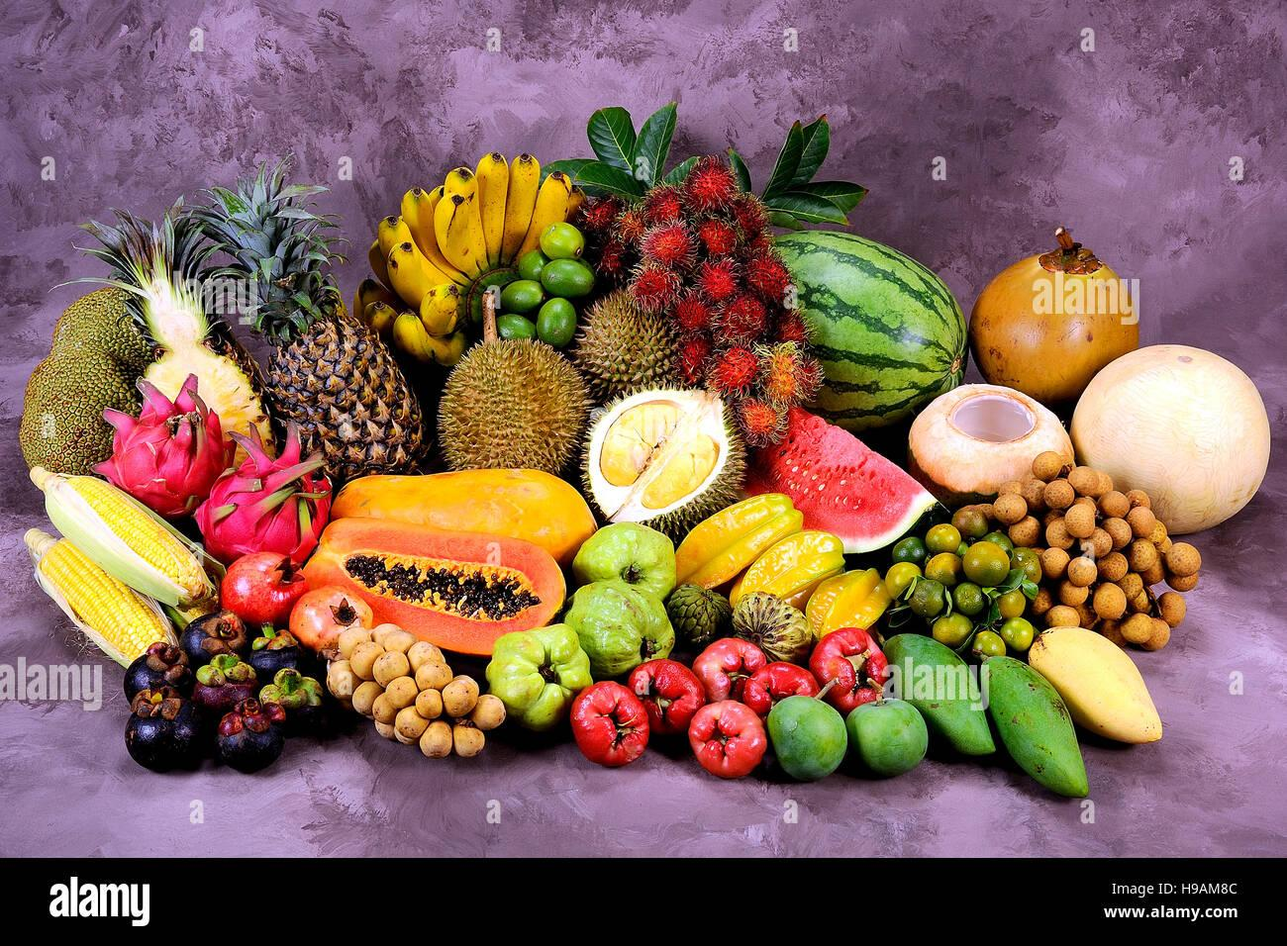chom_chom: (656, 190, 780, 360)
mang_cut: (129, 698, 204, 780), (212, 703, 283, 773)
sau_rieng: (444, 332, 588, 481)
thanh_long: (199, 437, 330, 559), (108, 388, 230, 516)
xoai: (1028, 627, 1171, 751)
